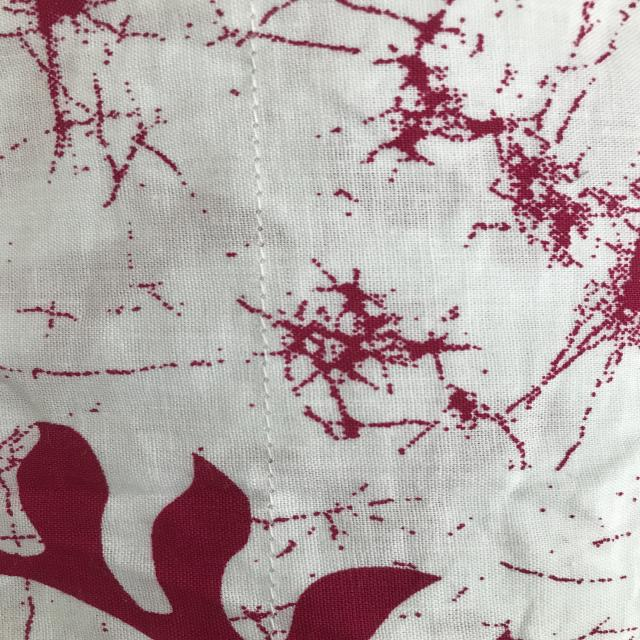good: (249, 359, 291, 470), (243, 170, 274, 286), (235, 72, 275, 148), (262, 536, 282, 611)
